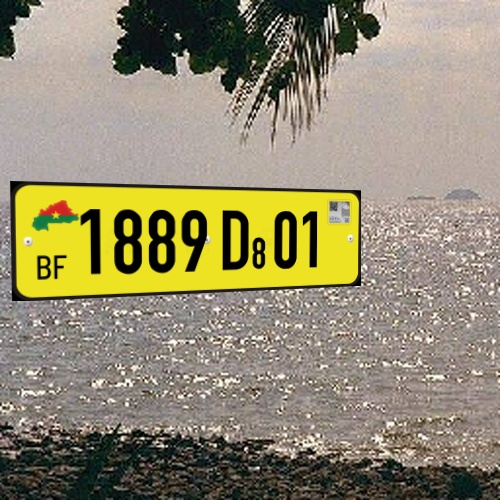plate: (6, 174, 379, 307)
